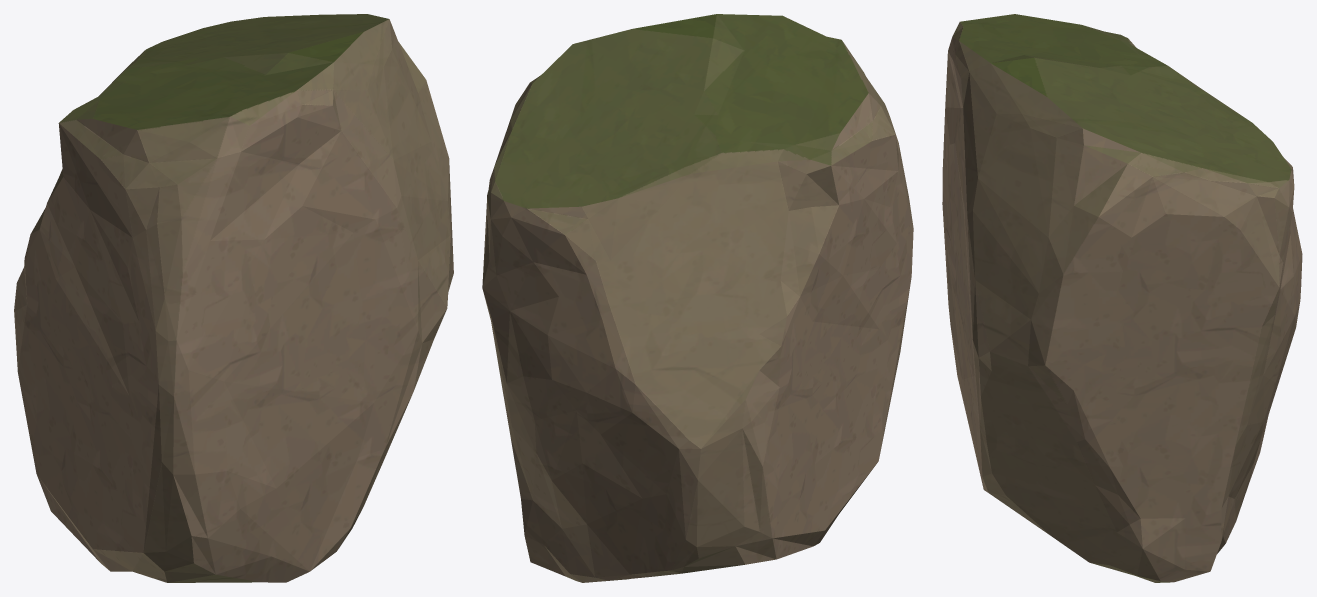
The model's file is SM_Env_Rock_06.glb.
The picture shows the model from 3 angles, left to right: view 1: azimuth 30°, elevation 25°; view 2: azimuth 150°, elevation 25°; view 3: azimuth 270°, elevation 25°; orthographic projection. The views are drawn at different scales.
Visible parts, largest first — view 1: SM_Env_Rock_06; view 2: SM_Env_Rock_06; view 3: SM_Env_Rock_06.
Part boxes in pixels (x1=…): SM_Env_Rock_06: x1=14, y1=14, x2=453, y2=582; SM_Env_Rock_06: x1=482, y1=14, x2=913, y2=582; SM_Env_Rock_06: x1=942, y1=14, x2=1302, y2=582.
Size of the model in its own units: 3.24 by 4.78 by 3.19.
1 material, 1 textured.
